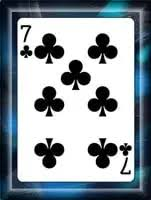seven of clubs: (17, 17, 134, 181)
